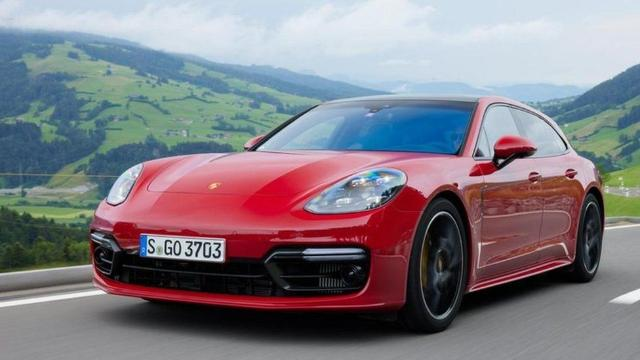porsche: (89, 94, 605, 330)
